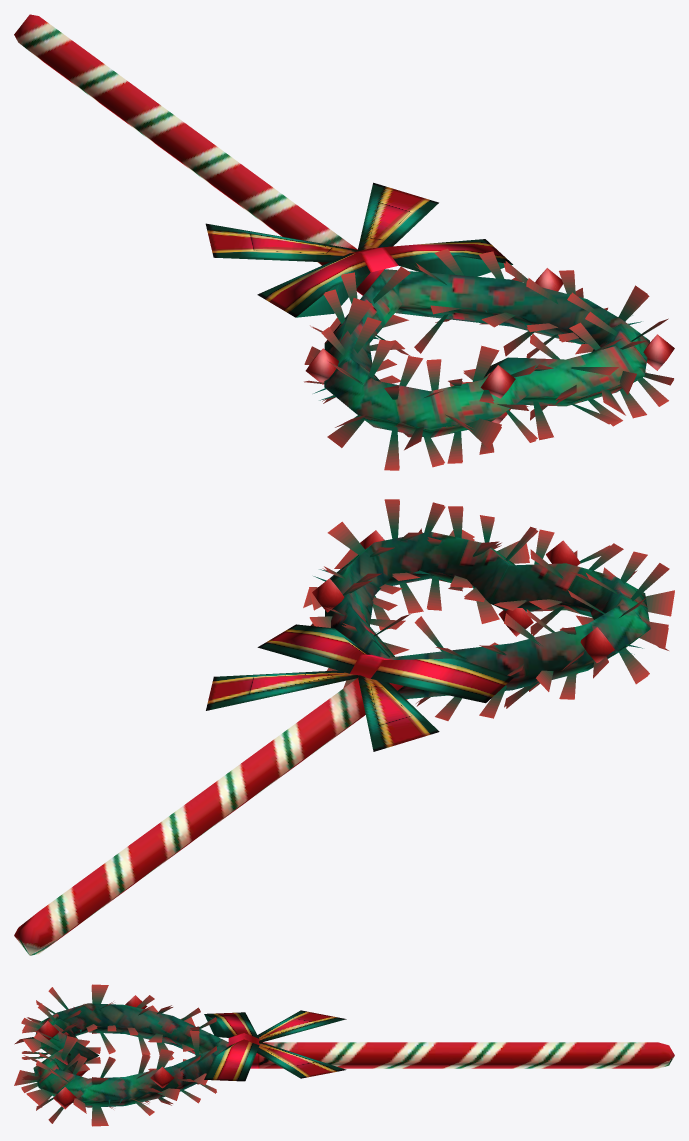
The model's file is rod0046.fbx.
The picture shows the model from 3 angles, top to bottom: view 1: azimuth 30°, elevation 25°; view 2: azimuth 150°, elevation 25°; view 3: azimuth 270°, elevation 25°; orthographic projection. The views are drawn at different scales.
Visible parts, largest first — view 1: rod0046_m; view 2: rod0046_m; view 3: rod0046_m.
Boxes of the visible parts, left/top/right/bottom form: rod0046_m: left=14, top=14, right=674, bottom=470; rod0046_m: left=14, top=499, right=674, bottom=955; rod0046_m: left=14, top=984, right=674, bottom=1126.
Size of the model in its own units: 0.3859 by 0.0989 by 1.08.
